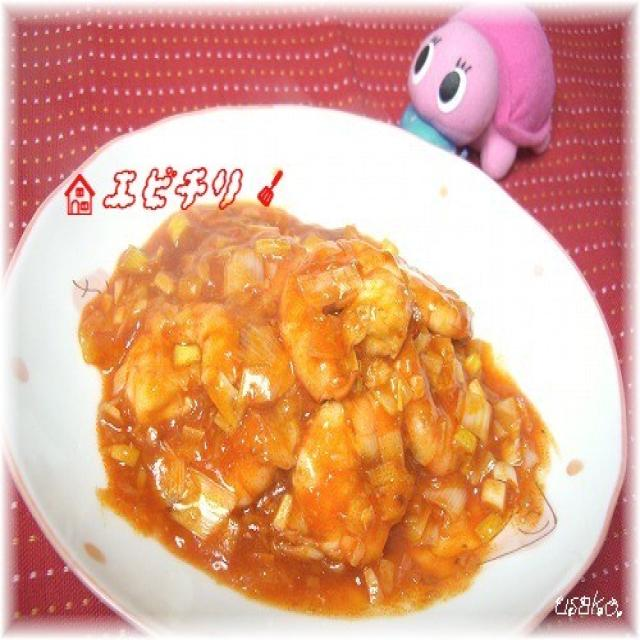熟制海鲜: (26, 104, 614, 585)
